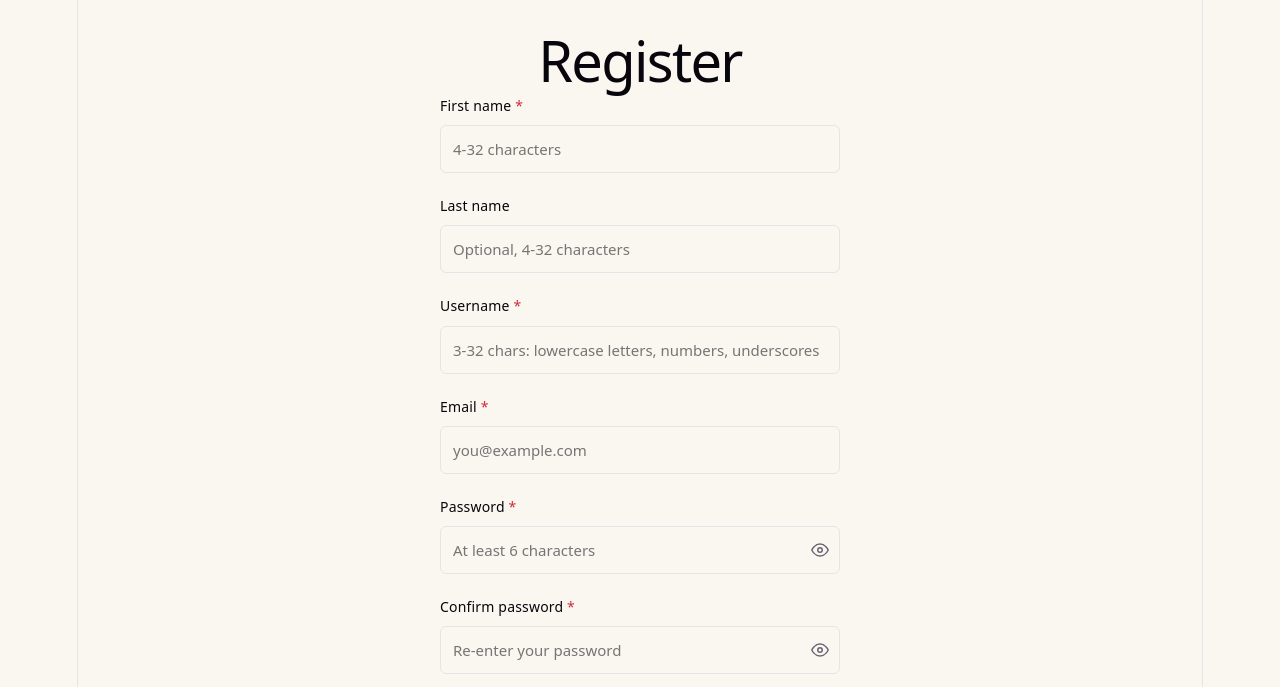
Test case: Register › checks username availability before signing up, and blocks submission if taken
In the field labelled "First name *": (640, 149) [440,125,840,173], type "Alex"
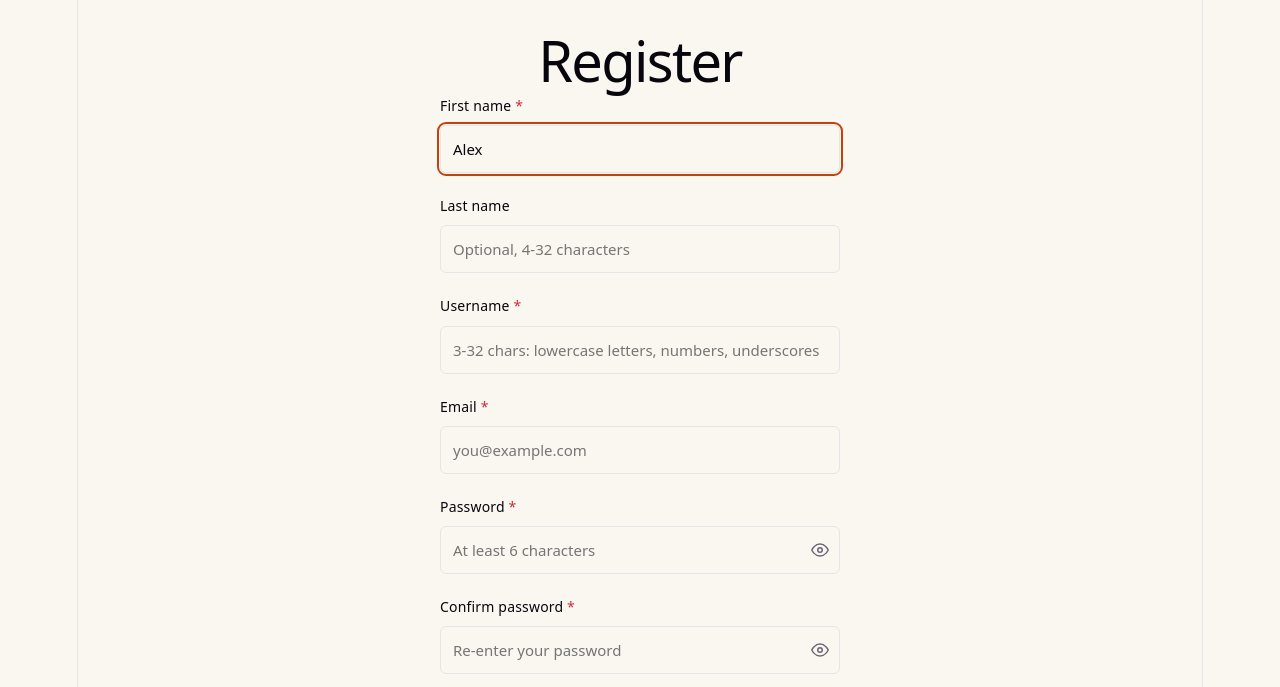
In the field labelled "Username *": (640, 350) [440,326,840,374], type "alexr"
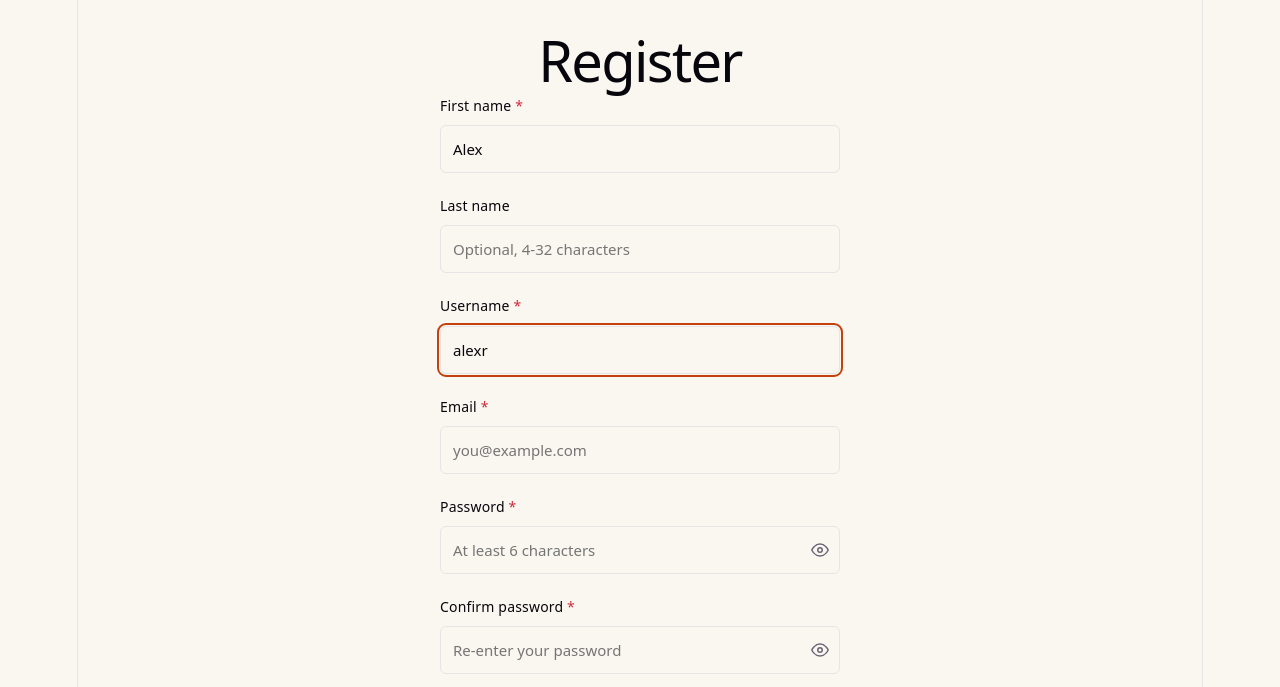
In the field labelled "Email *": (640, 450) [440,426,840,474], type "alex@example.com"
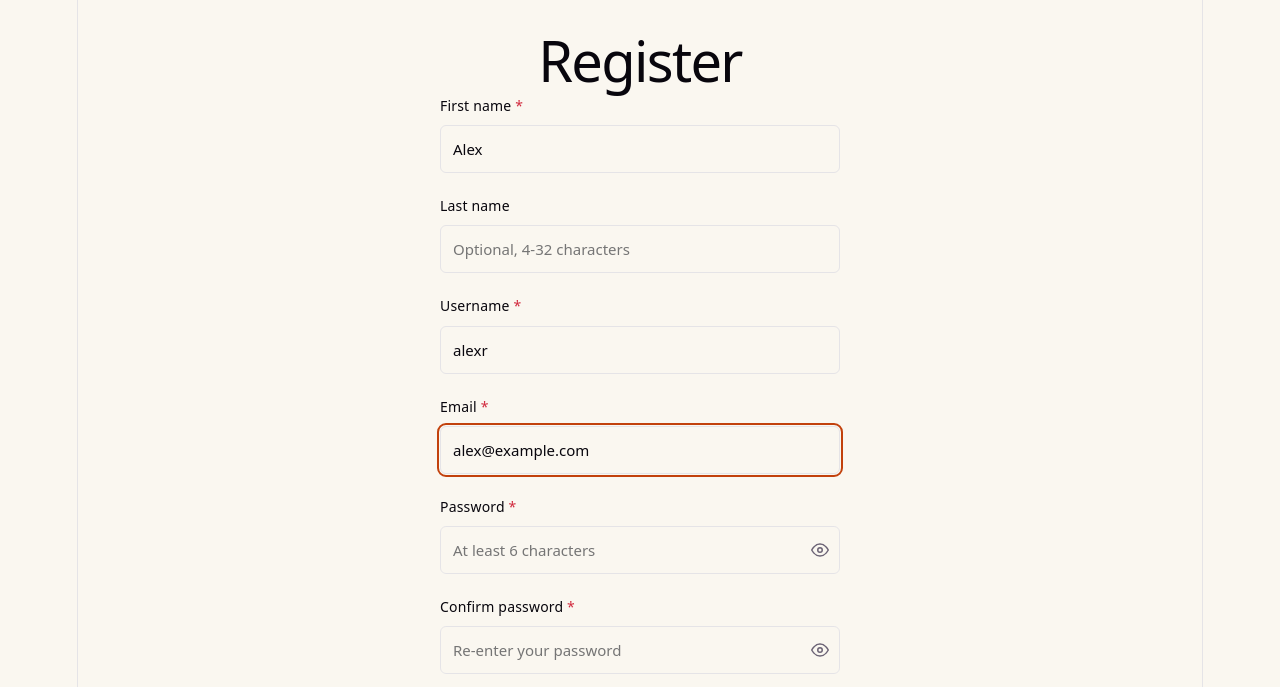
In the password field labelled "Password *": (640, 550) [440,526,840,574], type "password123"
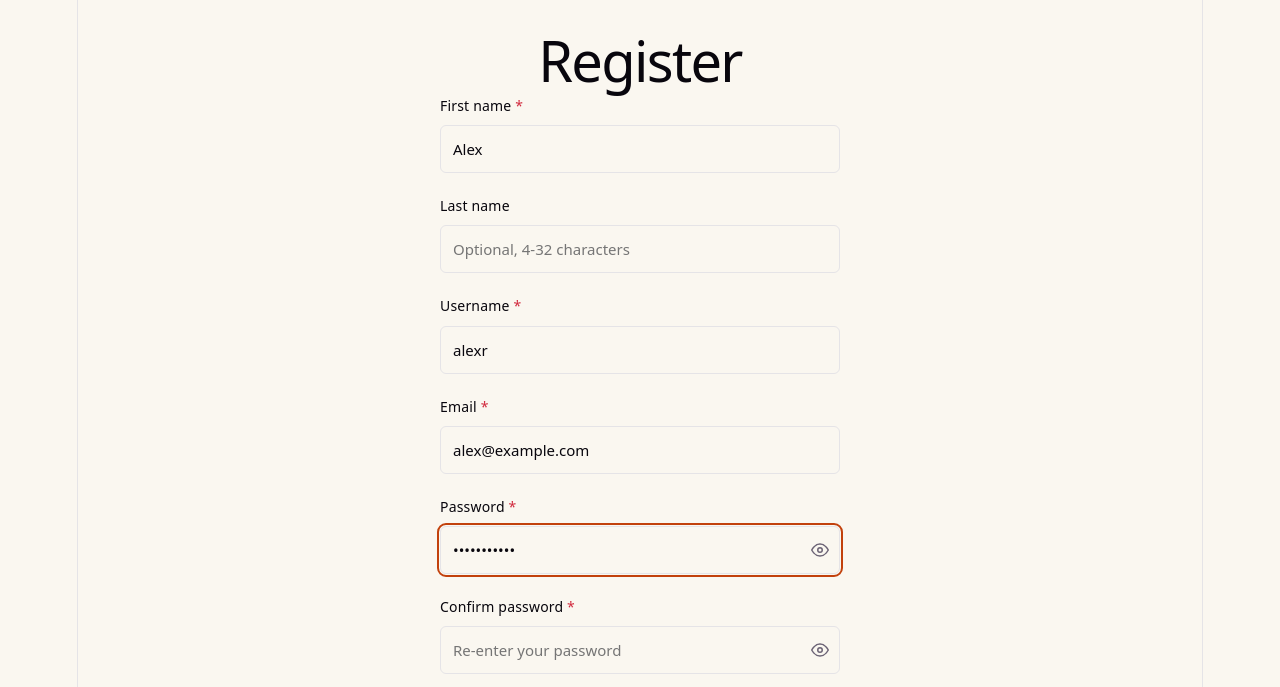
In the password field labelled "Confirm password *": (640, 650) [440,626,840,674], type "password123"
(page scrolled)
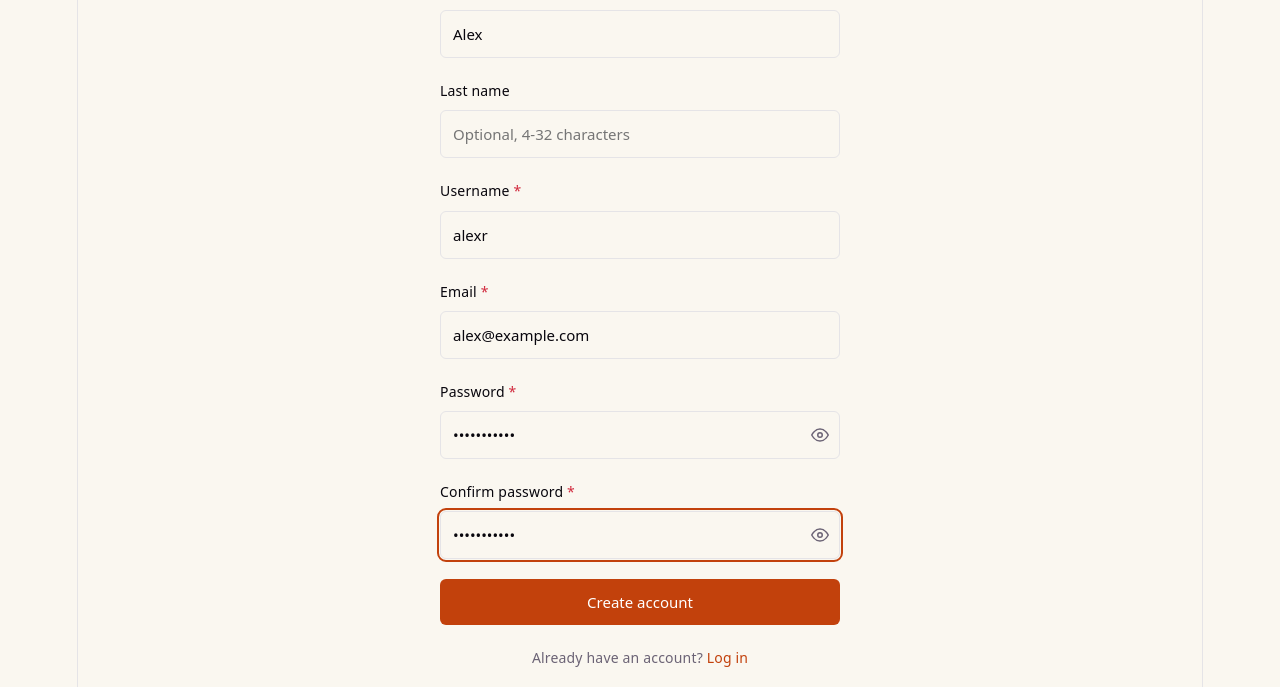
Click the button "Create account": (640, 602) [440,579,840,625]
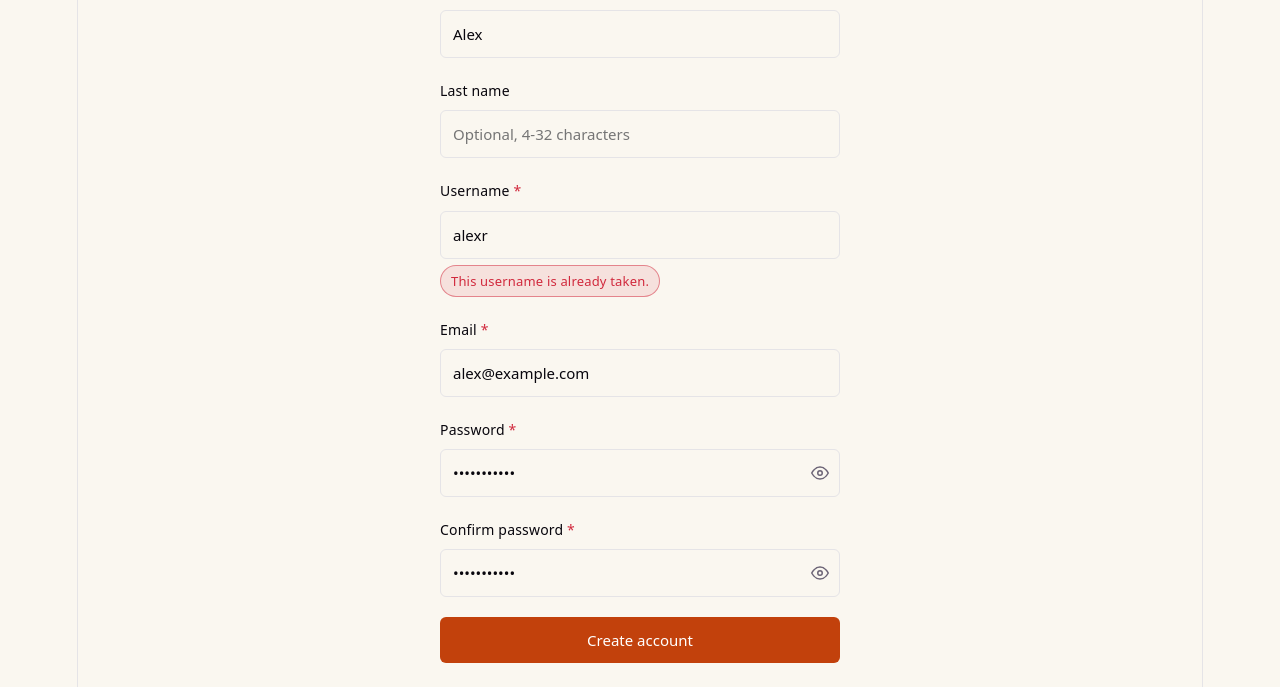
Now the text "This username is already taken." is shown, box [440,265,660,297]
